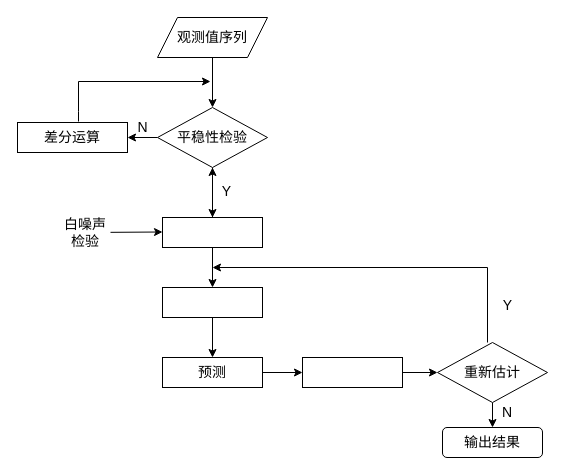
The diagram is 565 pixels wide and 475 high, and some of its shapes have lost their labels. The shapes that lost their labels are listed below. From the top down, each one's centre as x and y in pixels, then its label:
(212,232): 模式识别
(212,302): 参数估计
(352,372): 误差分析
